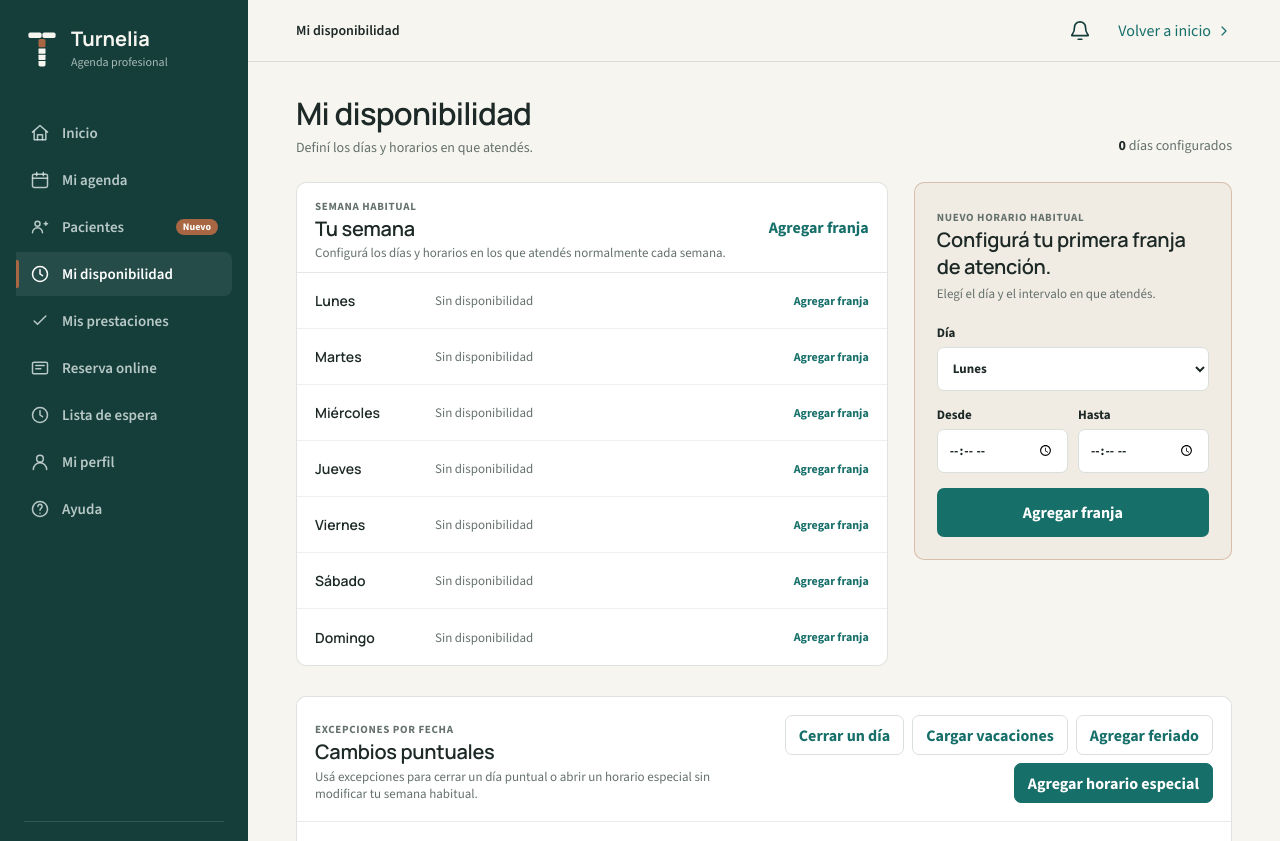
Scenario: mi disponibilidad profesional Signature › bloquea controles y evita doble envío mientras guarda
Expected: the heading "Tu semana" is shown, [315,215,415,242]
Type "08:00" into the time field labelled "Desde" at (1002, 451), box [937,429,1068,473]
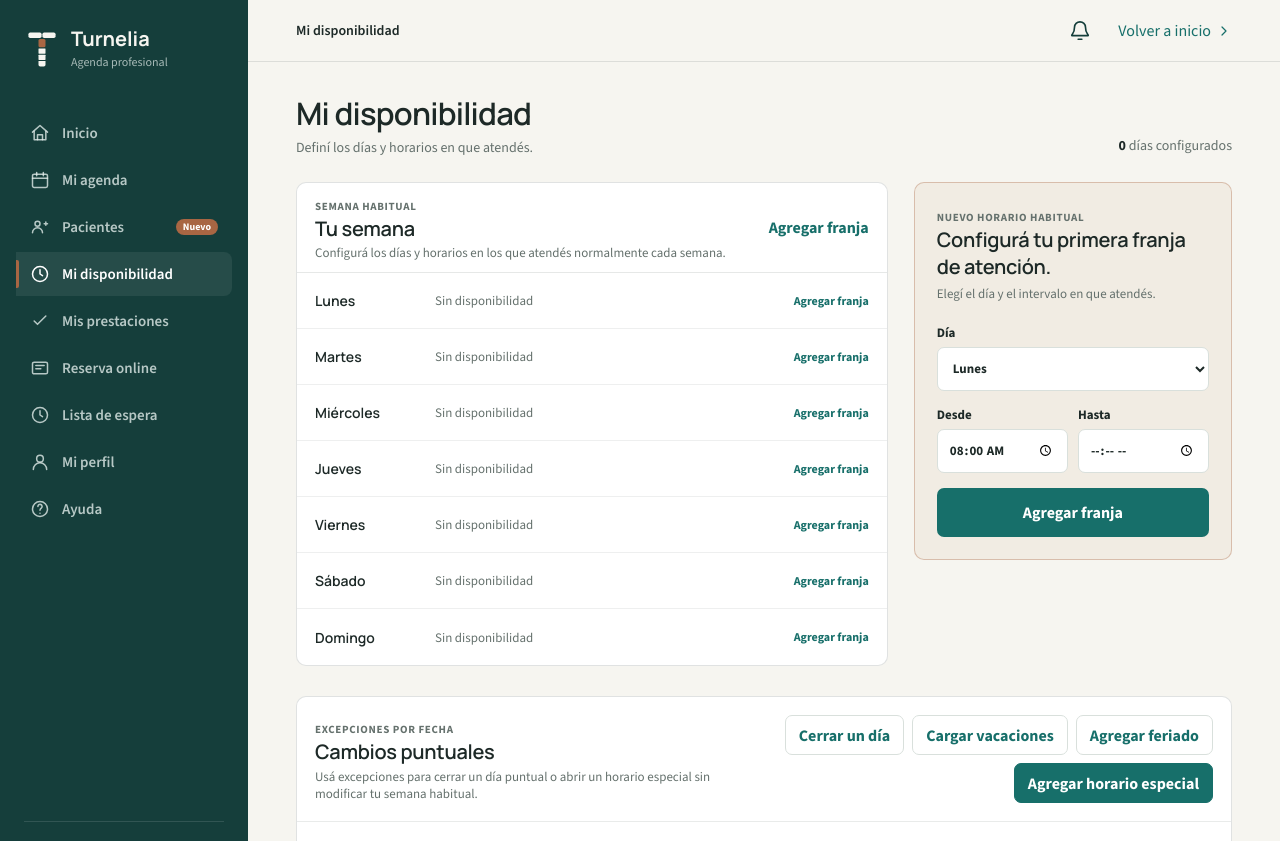
Type "12:00" into the time field labelled "Hasta" at (1143, 451), box [1078,429,1209,473]
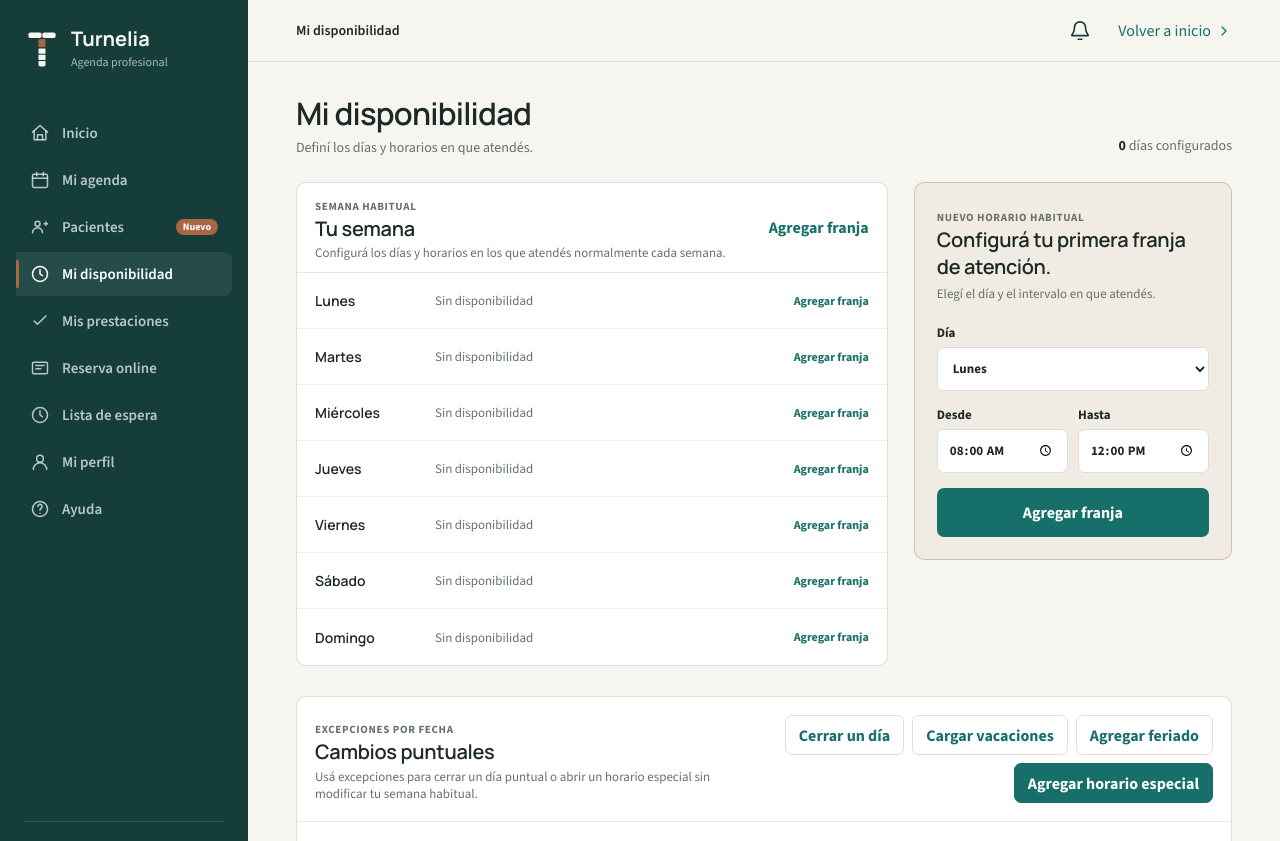
Click the button "Agregar franja" below "Desde" at (1073, 512), box [937,488,1209,537]
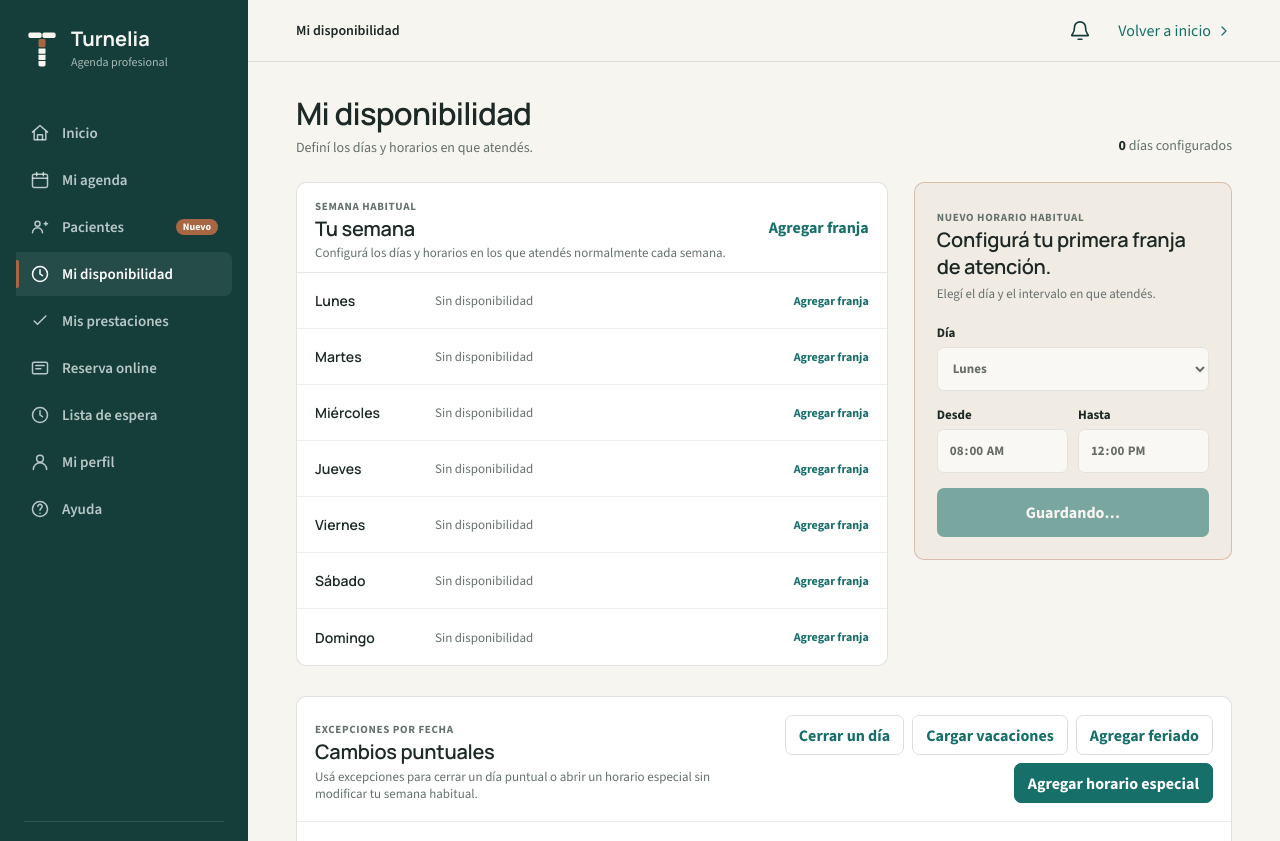
Now the button "Guardando…" is disabled, box [937,488,1209,537]
Now the dropdown labelled "Día" is disabled, box [937,347,1209,391]
Now the time field labelled "Desde" is disabled, box [937,429,1068,473]
Submit the form labelled "Día", box [937,324,1209,537]
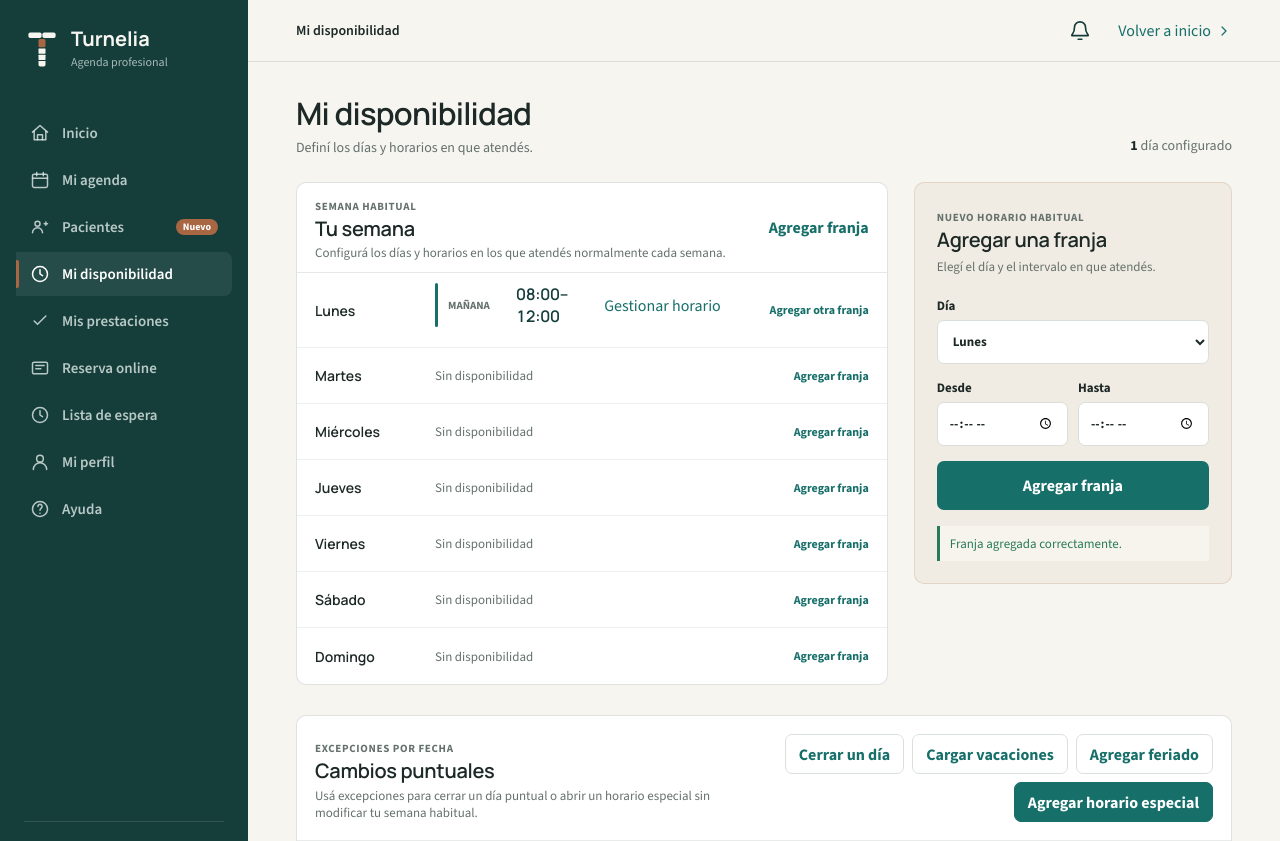
Now the message "Franja agregada correctamente." is shown, box [937,526,1209,561]
